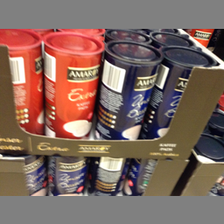coffee: (43, 31, 106, 139), (97, 40, 164, 140), (141, 46, 211, 139), (1, 29, 43, 134)
